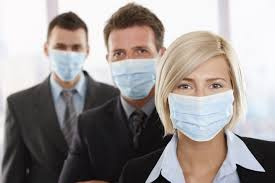flumask: (167, 94, 236, 150)
